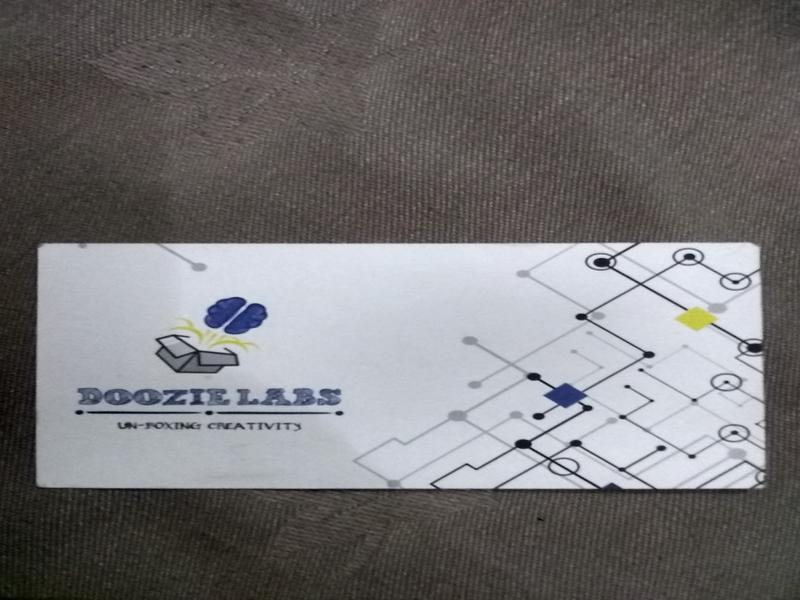back: (34, 239, 767, 491)
